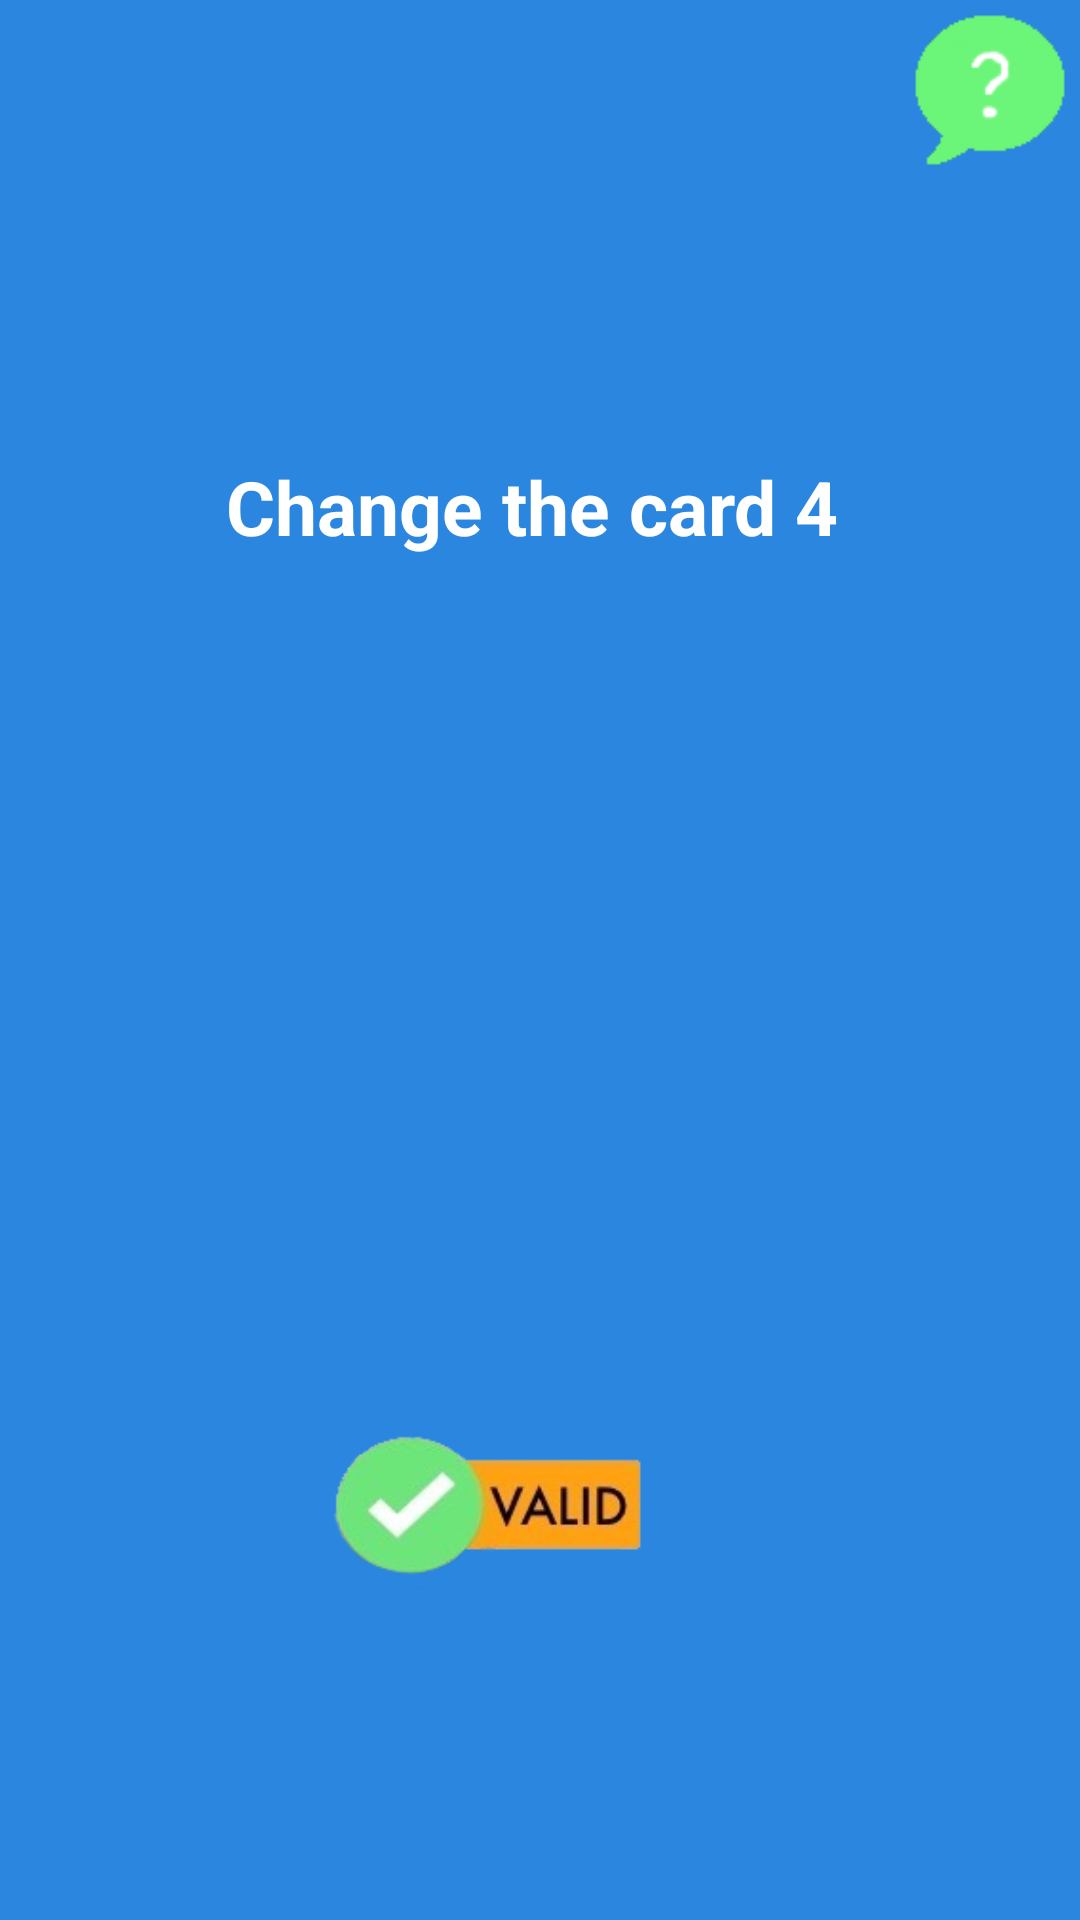

Where icons sit on this 1080 x 1920 app screen, as (x1, y1, x2, y2):
ask question: (915, 15, 1065, 165)
